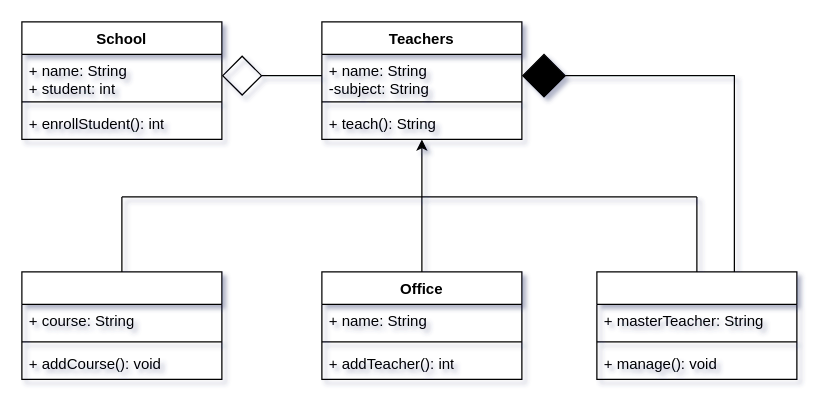
Image size: 826x413. Some labels were removed from this diagram. The shapes that lost their labels are listed below. From the top down, each one's box as (x1, y1, x2, y2) in pixels, then its label:
(21, 271, 222, 379): Faculty
(596, 271, 797, 379): Departments
